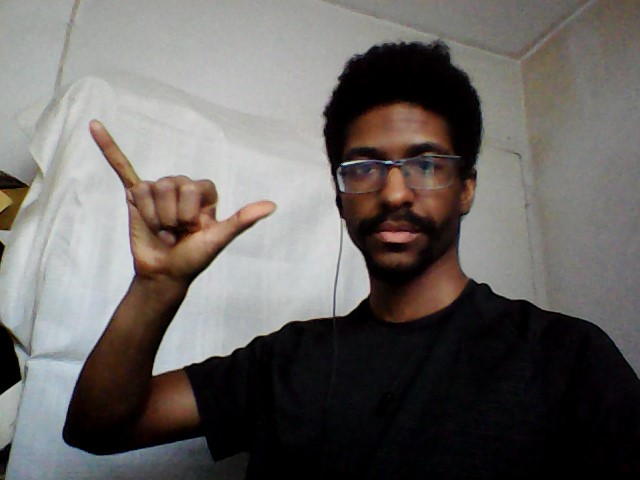y: (80, 116, 280, 285)
